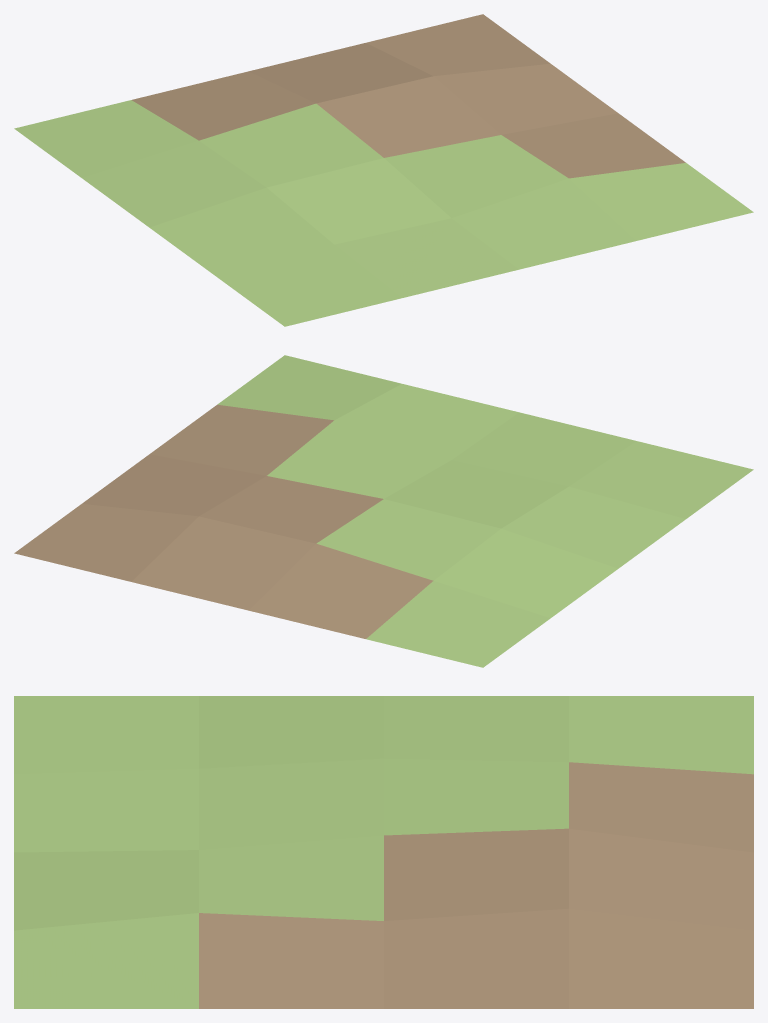
Rendered from Tile_34_Trans_Grass_Dirt.glb.
3 renders of one model, top to bottom at view 1: azimuth 30°, elevation 25°; view 2: azimuth 150°, elevation 25°; view 3: azimuth 270°, elevation 25°, orthographic. The views are drawn at different scales.
Parts seen in each view (by area): view 1: Tile_Trans_Grass_Dirt; view 2: Tile_Trans_Grass_Dirt; view 3: Tile_Trans_Grass_Dirt.
Part boxes in pixels (box(x1,y1,x2,y2)): Tile_Trans_Grass_Dirt: box(14, 14, 753, 326); Tile_Trans_Grass_Dirt: box(14, 355, 753, 667); Tile_Trans_Grass_Dirt: box(14, 696, 753, 1008).
Bounding box in the file's own units: 0.2 × 0.00711 × 0.2.
